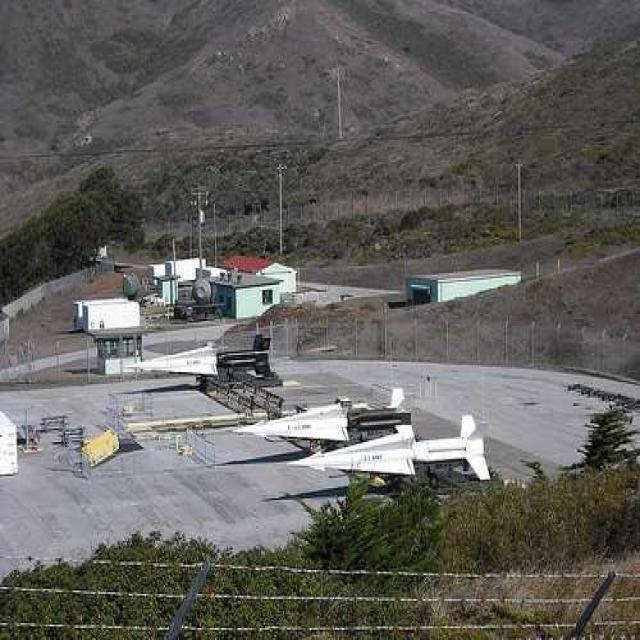missile: (289, 415, 492, 483), (231, 394, 414, 451), (124, 339, 279, 382)
